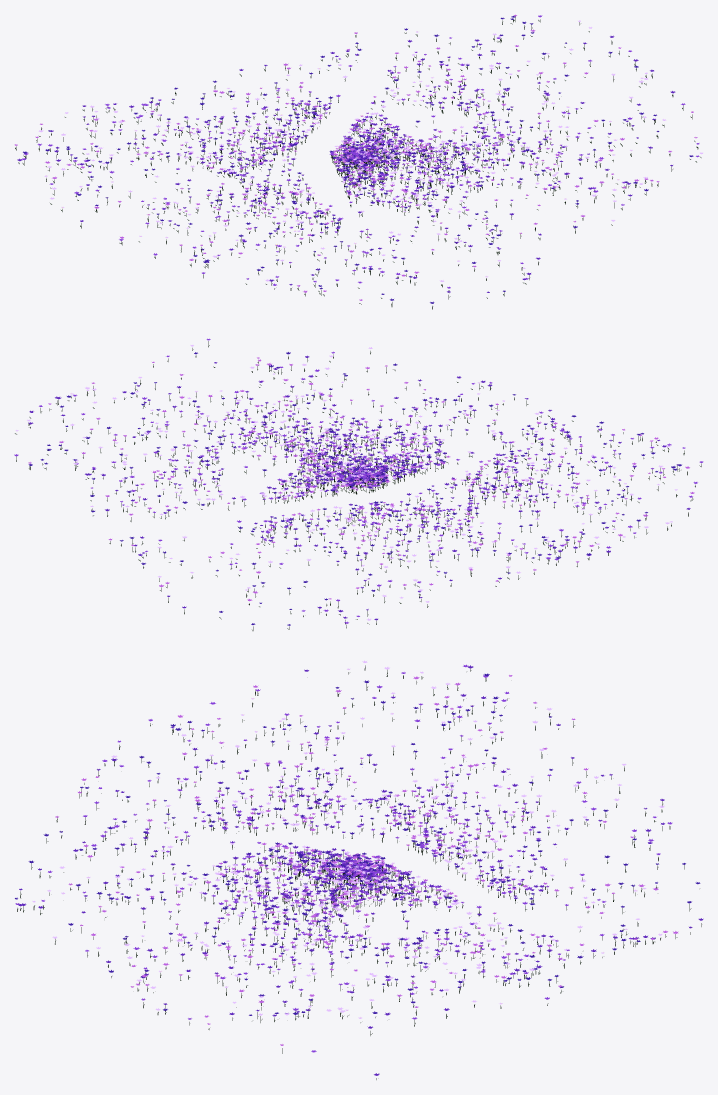
The model's file is flowers_b.glb.
3 views of the same model, one above another, from view 1: azimuth 30°, elevation 25°; view 2: azimuth 150°, elevation 25°; view 3: azimuth 270°, elevation 25° (orthographic). The views are drawn at different scales.
Visible parts, largest first — view 1: main; view 2: main; view 3: main.
Part boxes in pixels (<box>): main: <box>14,14,702,309</box>; main: <box>14,338,703,630</box>; main: <box>15,660,703,1079</box>.
Bounding box in the file's own units: 98.33 × 10.65 × 80.24.
Materials: 1 (1 with a texture image).
